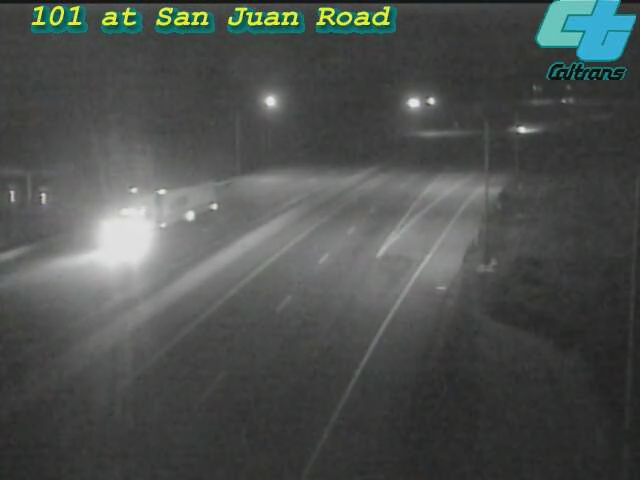vehicle: (110, 174, 190, 254), (498, 105, 548, 155)
